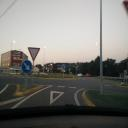preferencia: (26, 46, 42, 62)
